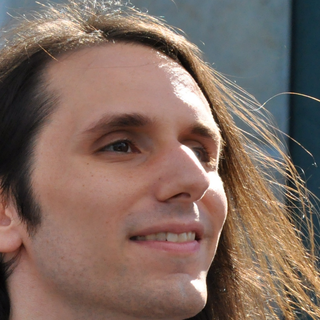eye: (92, 134, 143, 161)
